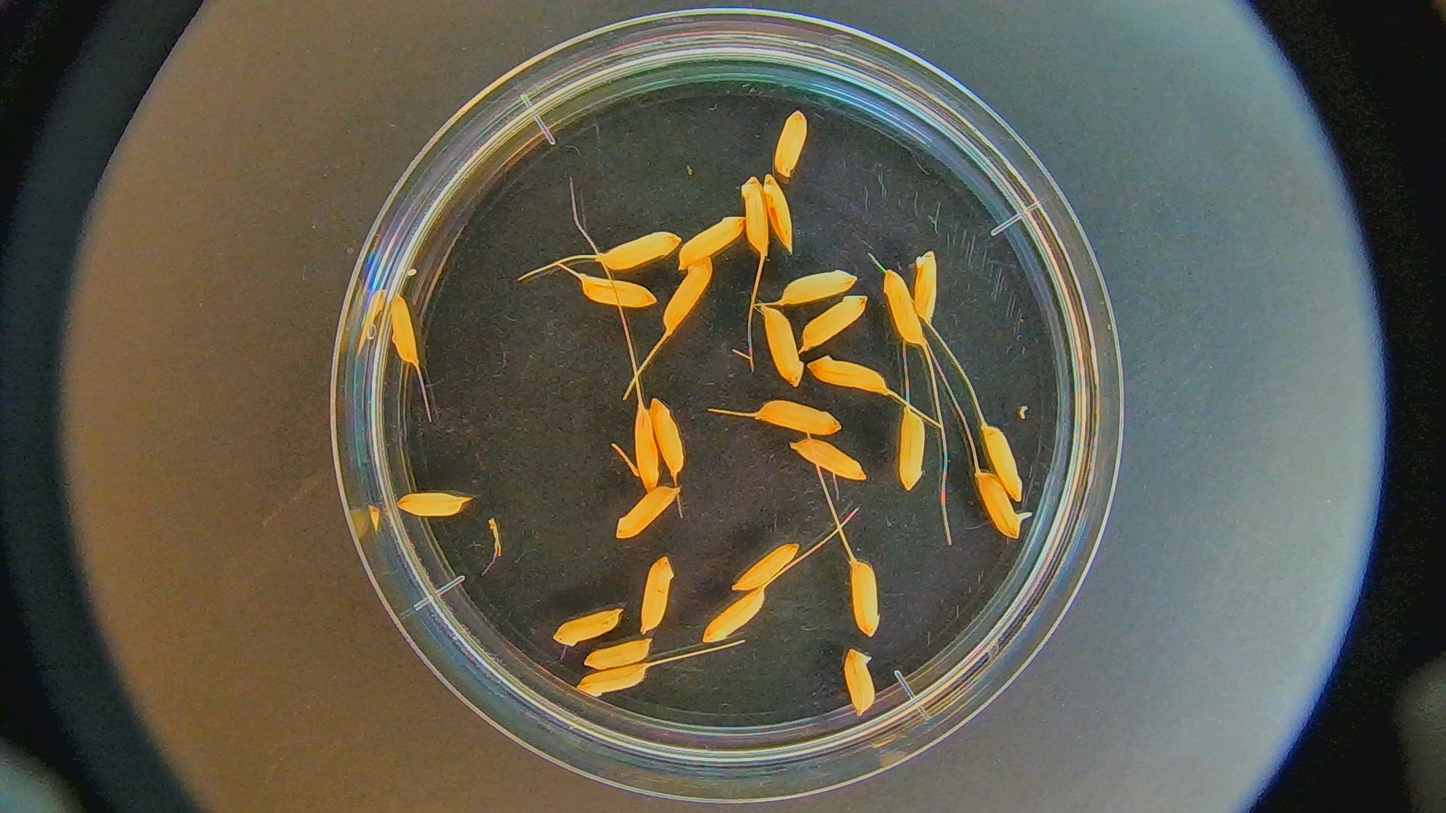no: (754, 299, 809, 390), (874, 269, 932, 346), (723, 541, 805, 595), (698, 586, 772, 641), (661, 257, 714, 333), (590, 227, 681, 271), (978, 419, 1027, 500), (802, 297, 871, 352), (839, 557, 887, 635), (789, 438, 869, 483), (753, 398, 842, 438), (575, 267, 655, 311), (611, 486, 679, 537), (645, 397, 688, 477), (679, 215, 745, 266), (809, 353, 887, 394), (761, 172, 798, 257), (627, 405, 663, 492), (386, 291, 425, 370), (736, 174, 773, 256), (635, 555, 673, 632), (392, 484, 468, 522), (837, 650, 878, 720), (782, 269, 860, 305), (771, 106, 808, 179), (548, 608, 623, 644), (897, 403, 929, 487), (911, 245, 944, 325), (577, 664, 647, 701), (582, 637, 654, 671)
yes: (972, 473, 1026, 539)
